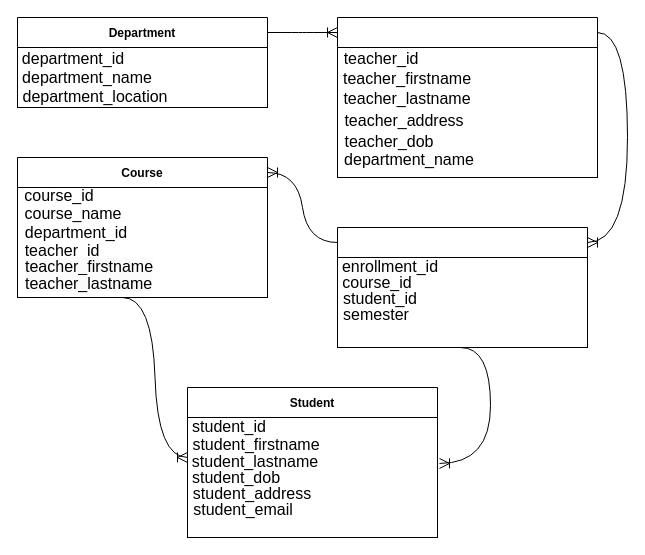
Some shapes in this 645 by 555 pixel diagram are drawn without their labels. Each missing label, with the box of its shape:
Enrolment: (336, 226, 588, 258)
Teacher: (336, 16, 598, 48)
